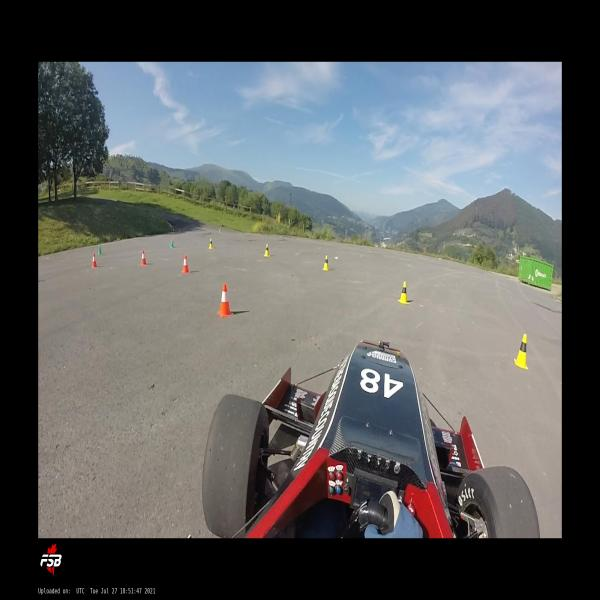orange_cone: (217, 284, 234, 317), (182, 255, 190, 274), (141, 249, 147, 266), (92, 254, 97, 268)
unknown_cone: (170, 240, 174, 248), (98, 245, 101, 254)
yellow_cone: (514, 334, 528, 370), (398, 281, 409, 304), (322, 254, 329, 271), (264, 244, 270, 256), (209, 238, 214, 249)
